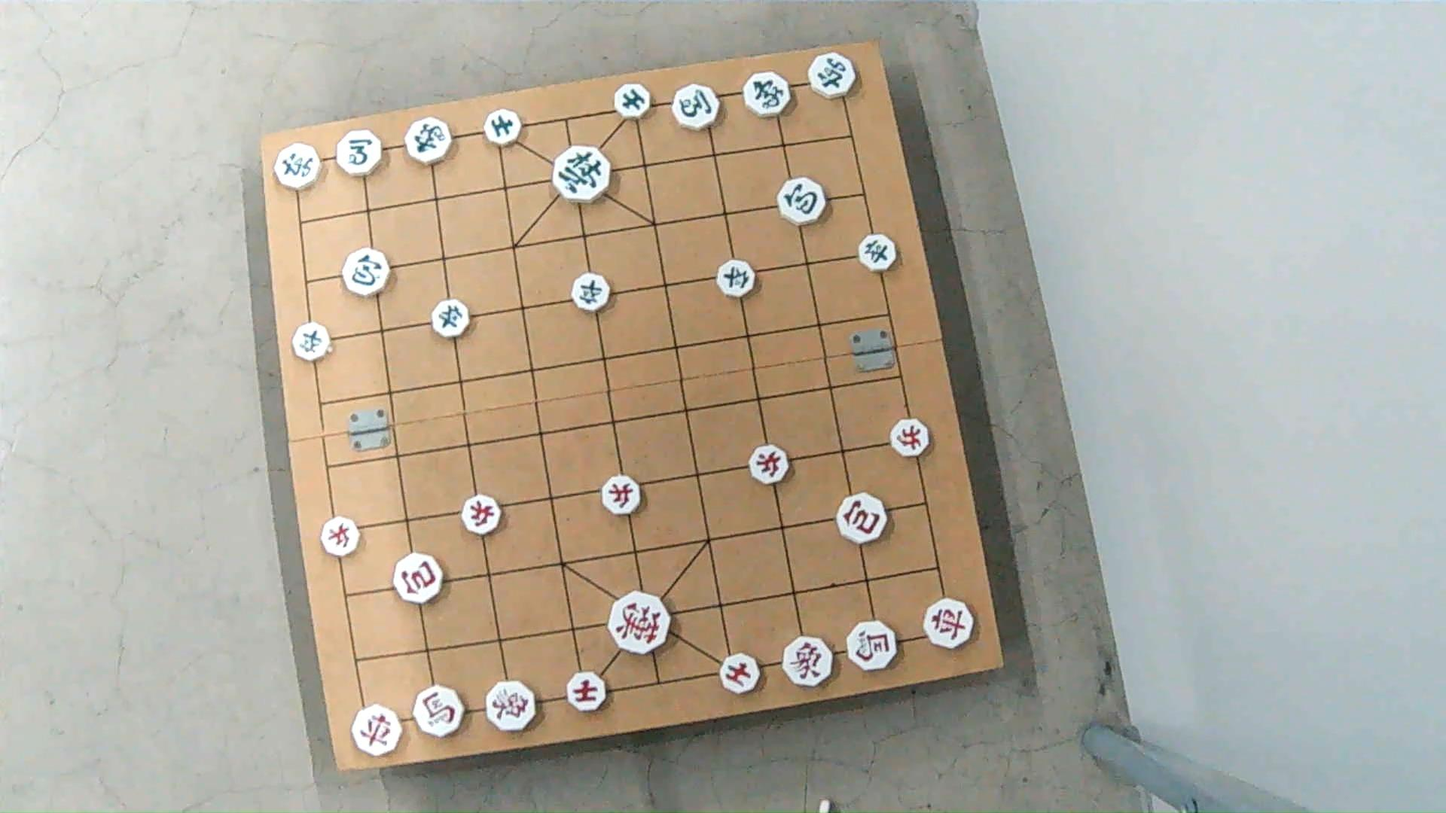cha_green: (805, 53, 856, 97), (275, 144, 325, 187)
cha_red: (923, 601, 975, 649), (352, 705, 402, 754)
jol_green: (570, 276, 612, 313), (430, 300, 471, 337), (291, 325, 333, 361), (716, 261, 756, 297), (859, 236, 899, 272)
jol_red: (461, 495, 504, 534), (599, 477, 643, 515), (749, 446, 791, 483), (889, 421, 932, 457), (321, 515, 358, 555)
ma_green: (673, 84, 721, 128), (335, 132, 383, 174)
ma_red: (844, 620, 901, 670), (412, 687, 464, 736)
po_green: (340, 249, 391, 295), (779, 180, 828, 225)
po_red: (839, 495, 890, 544), (394, 556, 445, 604)
sa_green: (481, 112, 521, 146), (613, 84, 653, 117)
sa_red: (565, 672, 606, 711), (722, 653, 758, 693)
sang_green: (741, 73, 791, 118), (403, 120, 452, 163)
sang_red: (781, 633, 834, 688), (487, 683, 538, 729)
wang_green: (552, 148, 612, 202)
wang_red: (611, 594, 672, 653)
